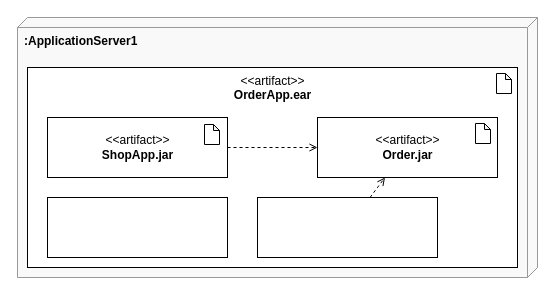
The diagram is 555 pixels wide and 295 high, and some of its shapes have lost their labels. The centre of each missing label's shape, as x and y in pixels:
<<deployment spec>> OrderDescription.xml: point (347, 227)
<<deployment spec>> ShopAppDescription.xml: point (137, 227)
